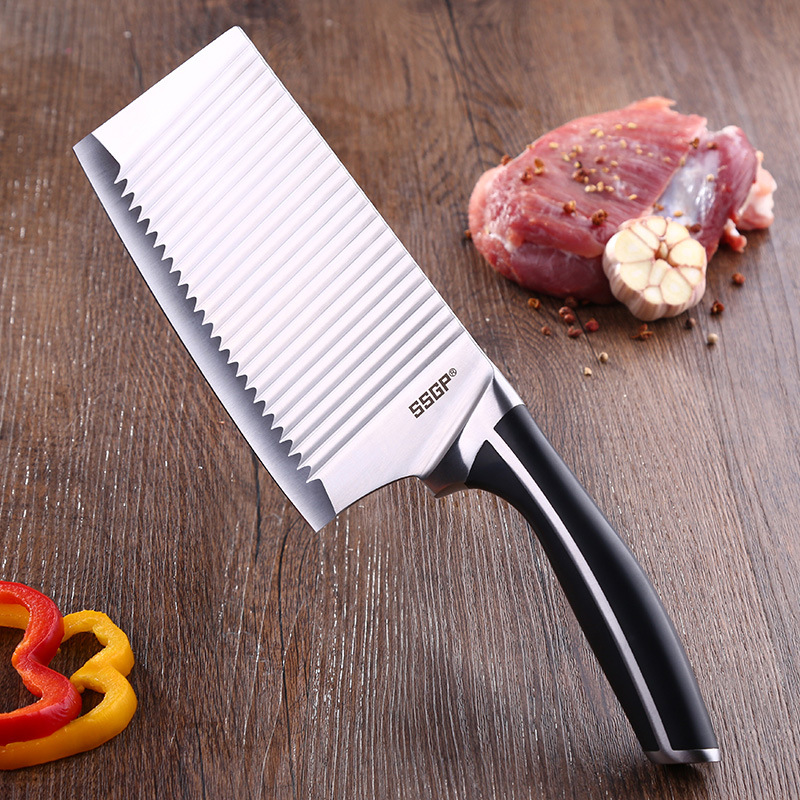knief: (70, 74, 720, 766)
